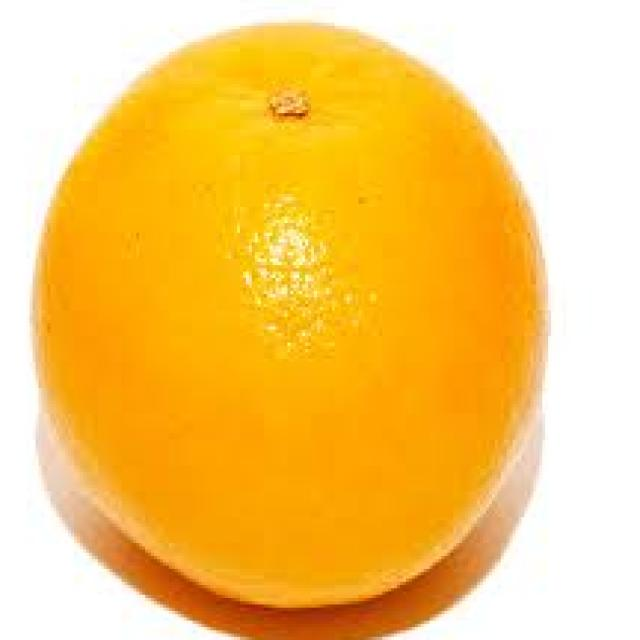greapefurit: (30, 6, 560, 608)
